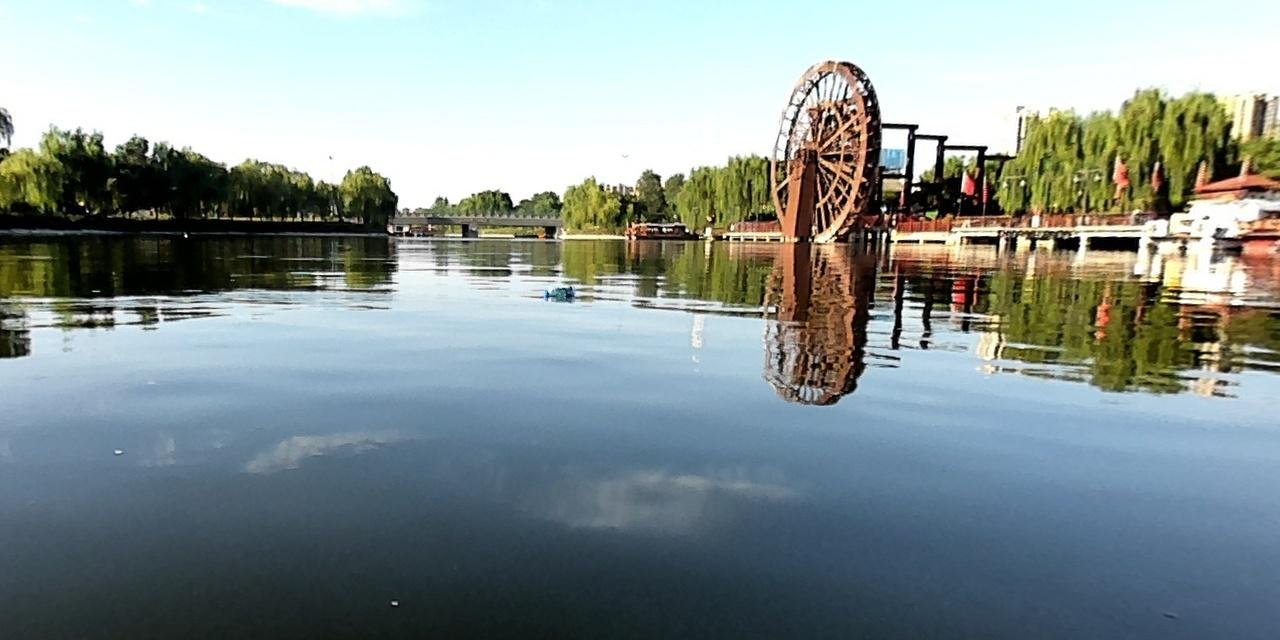bottle: (538, 283, 576, 300)
